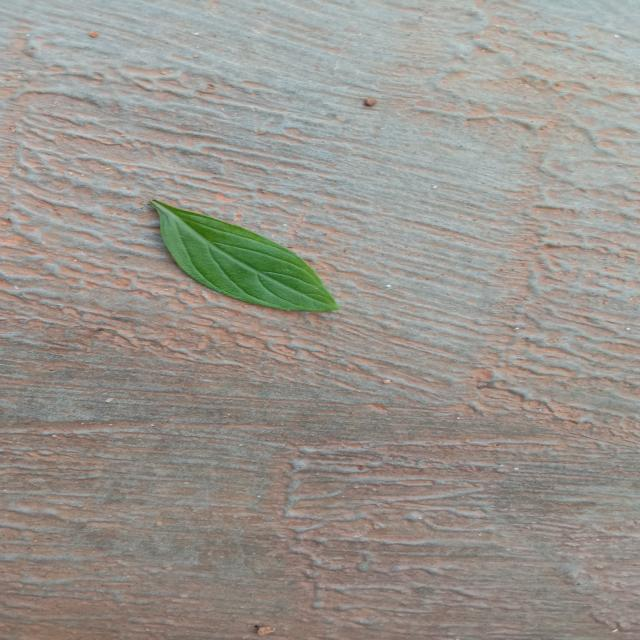kamakasturi: (150, 200, 338, 311)
